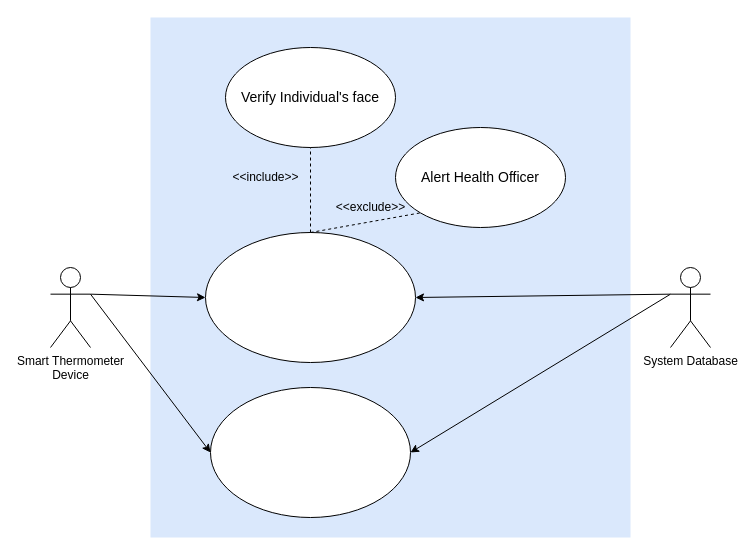
This 755x554 diagram has some shape labels left out. The shapes that lost their labels are listed below. From the top down, each one's centre as x and y in pixels, then its label:
point 310,297: Scan body temperature
point 310,452: Send body temperature
